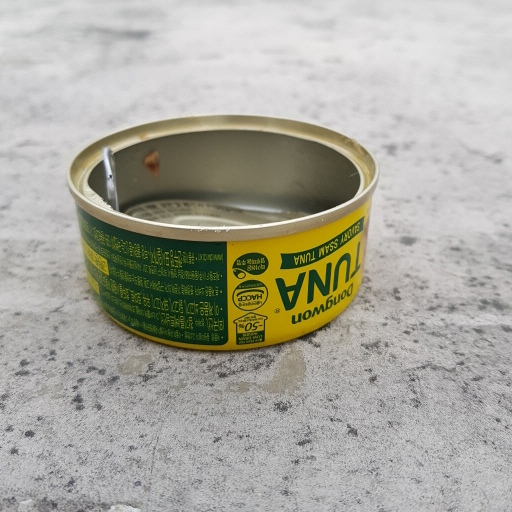Metal_1: (67, 112, 380, 354)
